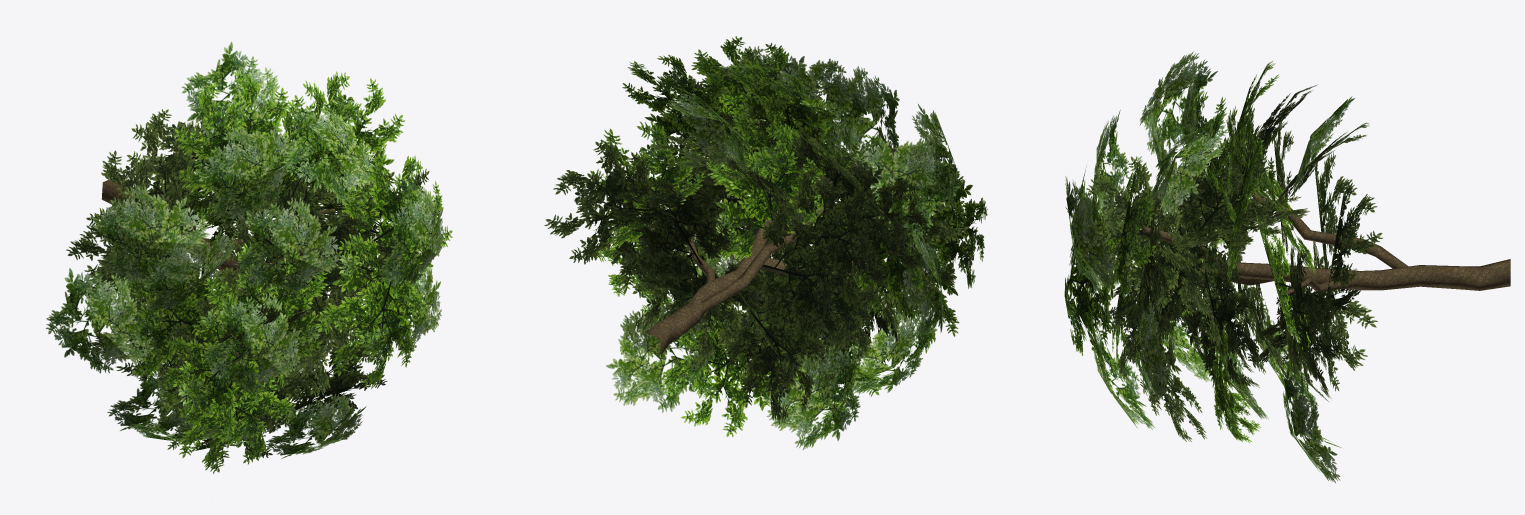
File: dashu03.gltf
The picture shows the model from 3 angles, left to right: view 1: azimuth 30°, elevation 25°; view 2: azimuth 150°, elevation 25°; view 3: azimuth 270°, elevation 25°; orthographic projection. The views are drawn at different scales.
Parts seen in each view (by area): view 1: Group_MatrixTransform_dashu03_Geometry_2, Group_MatrixTransform_dashu03_Geometry_3, Group_MatrixTransform_dashu03_Geometry_1, Group_MatrixTransform_dashu03_Geometry_0; view 2: Group_MatrixTransform_dashu03_Geometry_1, Group_MatrixTransform_dashu03_Geometry_3, Group_MatrixTransform_dashu03_Geometry_2, Group_MatrixTransform_dashu03_Geometry_0; view 3: Group_MatrixTransform_dashu03_Geometry_1, Group_MatrixTransform_dashu03_Geometry_2, Group_MatrixTransform_dashu03_Geometry_3, Group_MatrixTransform_dashu03_Geometry_0.
Boxes of the visible parts, x1,y1,x2,y2 form: Group_MatrixTransform_dashu03_Geometry_2: [46, 41, 444, 458]; Group_MatrixTransform_dashu03_Geometry_3: [110, 69, 452, 473]; Group_MatrixTransform_dashu03_Geometry_1: [66, 98, 440, 462]; Group_MatrixTransform_dashu03_Geometry_0: [101, 176, 353, 356]; Group_MatrixTransform_dashu03_Geometry_1: [544, 76, 968, 424]; Group_MatrixTransform_dashu03_Geometry_3: [589, 36, 987, 437]; Group_MatrixTransform_dashu03_Geometry_2: [606, 46, 965, 449]; Group_MatrixTransform_dashu03_Geometry_0: [645, 120, 863, 354]; Group_MatrixTransform_dashu03_Geometry_1: [1065, 84, 1382, 441]; Group_MatrixTransform_dashu03_Geometry_2: [1066, 51, 1354, 482]; Group_MatrixTransform_dashu03_Geometry_3: [1064, 61, 1341, 447]; Group_MatrixTransform_dashu03_Geometry_0: [1142, 190, 1510, 294].
Bounding box in the file's own units: 12.77 × 12.7 × 12.65.
4 materials, 4 textured.
